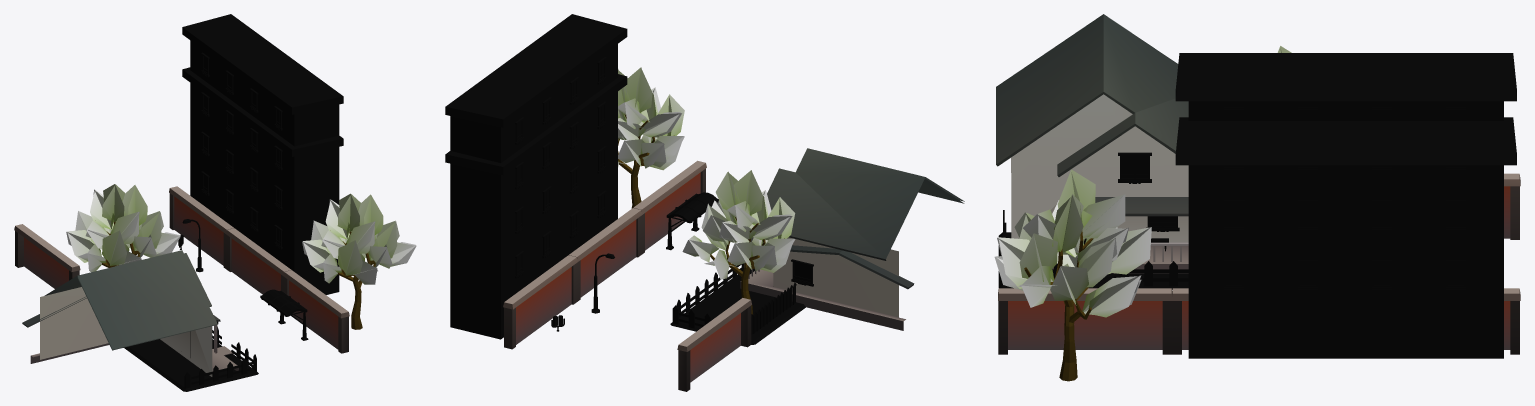
File: SM_ER_module9_walls.fbx
3 views of the same model, side by side, from view 1: azimuth 30°, elevation 25°; view 2: azimuth 150°, elevation 25°; view 3: azimuth 270°, elevation 25° (orthographic). The views are drawn at different scales.
Parts seen in each view (by area): view 1: SM_ER_module9_walls; view 2: SM_ER_module9_walls; view 3: SM_ER_module9_walls.
Part boxes in pixels (box(x1,y1,x2,y2)): SM_ER_module9_walls: box(14, 14, 416, 391); SM_ER_module9_walls: box(445, 14, 964, 391); SM_ER_module9_walls: box(994, 14, 1520, 381).
Bounding box in the file's own units: 6022 × 3474 × 5437.
